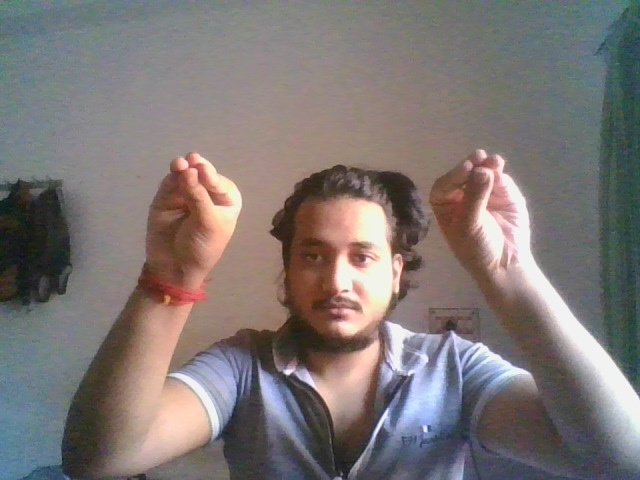Mouth: (428, 148, 534, 273), (144, 150, 242, 275)
